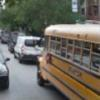buses: (38, 22, 100, 100)
